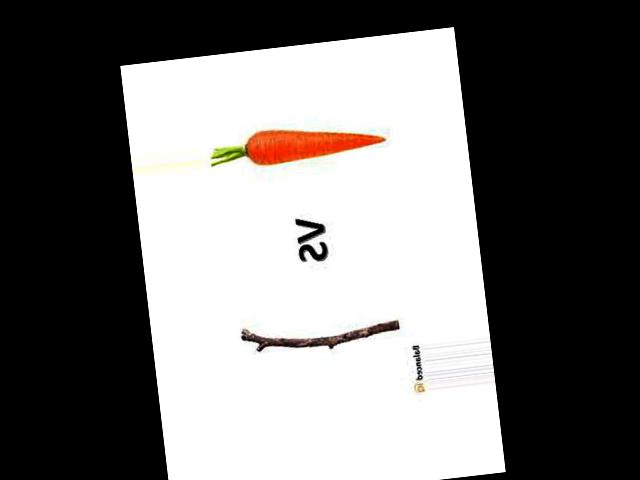carrot: (236, 114, 392, 174)
